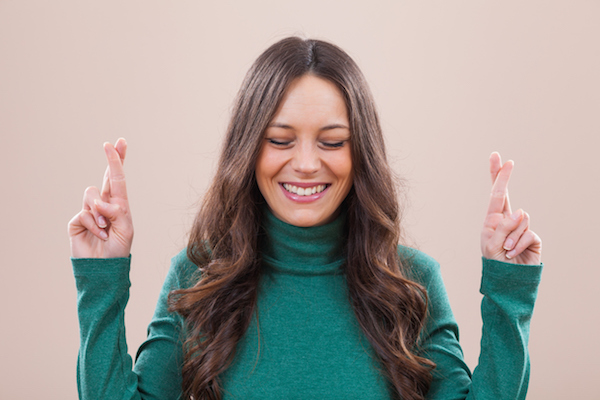face: (257, 72, 353, 226)
hand: (66, 131, 136, 258), (481, 151, 544, 267)
